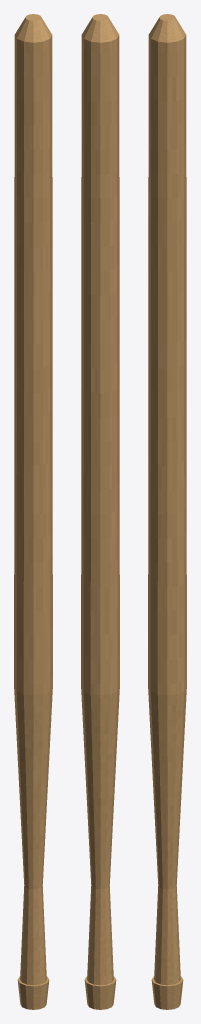
File: stick.obj
The picture shows the model from 3 angles, left to right: view 1: azimuth 30°, elevation 25°; view 2: azimuth 150°, elevation 25°; view 3: azimuth 330°, elevation 25°; orthographic projection.
Visible parts, largest first — view 1: drums; view 2: drums; view 3: drums.
Boxes of the visible parts, bbox=[...] form: drums: bbox=[14, 14, 52, 1009]; drums: bbox=[81, 14, 119, 1009]; drums: bbox=[148, 14, 186, 1009].
Bounding box in the file's own units: 0.0142 × 0.398 × 0.0142.
